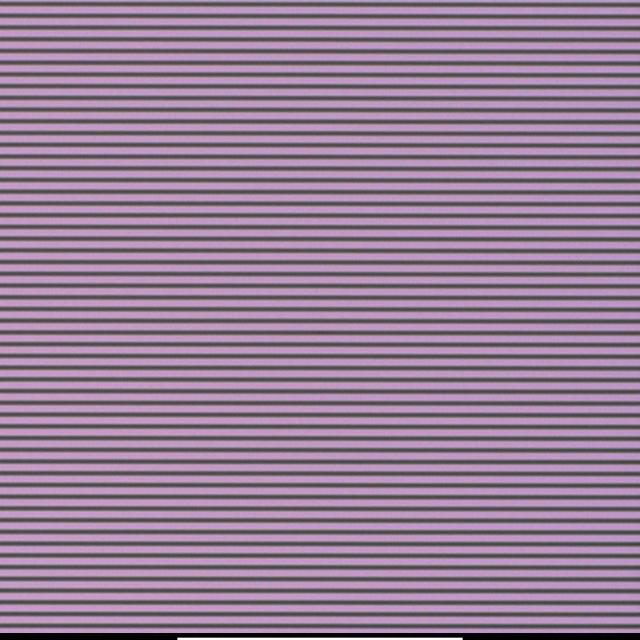nonvisual: (312, 284, 320, 296)
